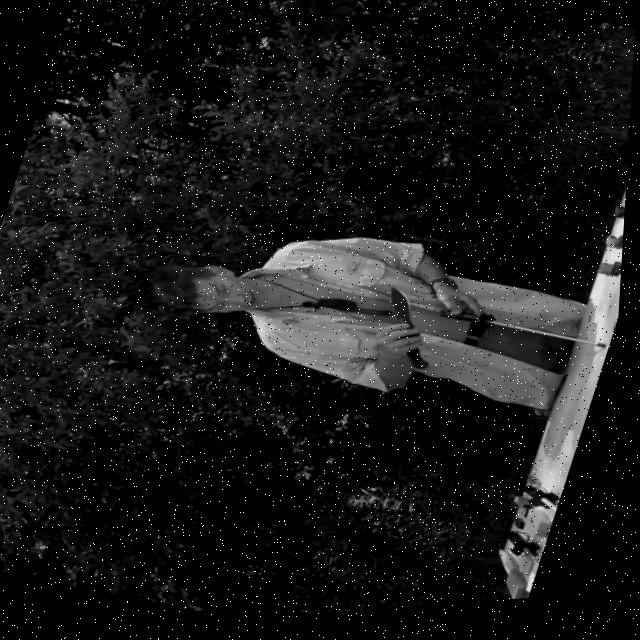knife: (370, 288, 456, 381), (599, 265, 626, 290), (604, 236, 627, 265), (613, 204, 629, 235), (625, 190, 629, 205)
